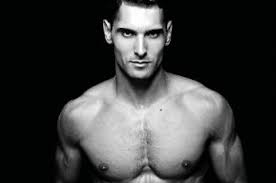middle_eastern_male: (112, 4, 168, 76)
